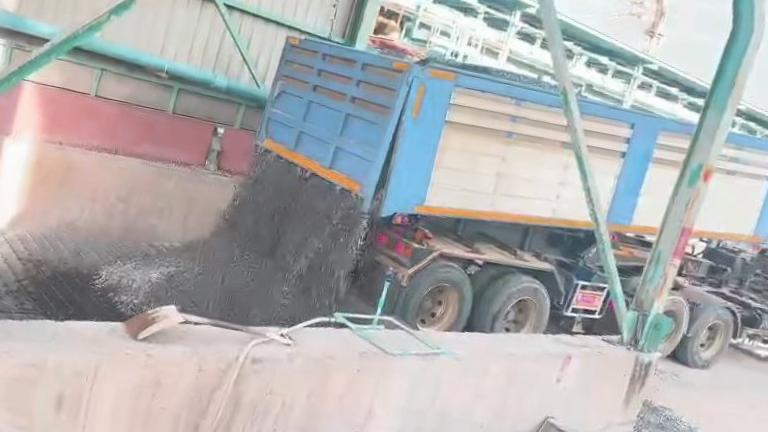gravel: (94, 152, 365, 324), (611, 402, 742, 432)
